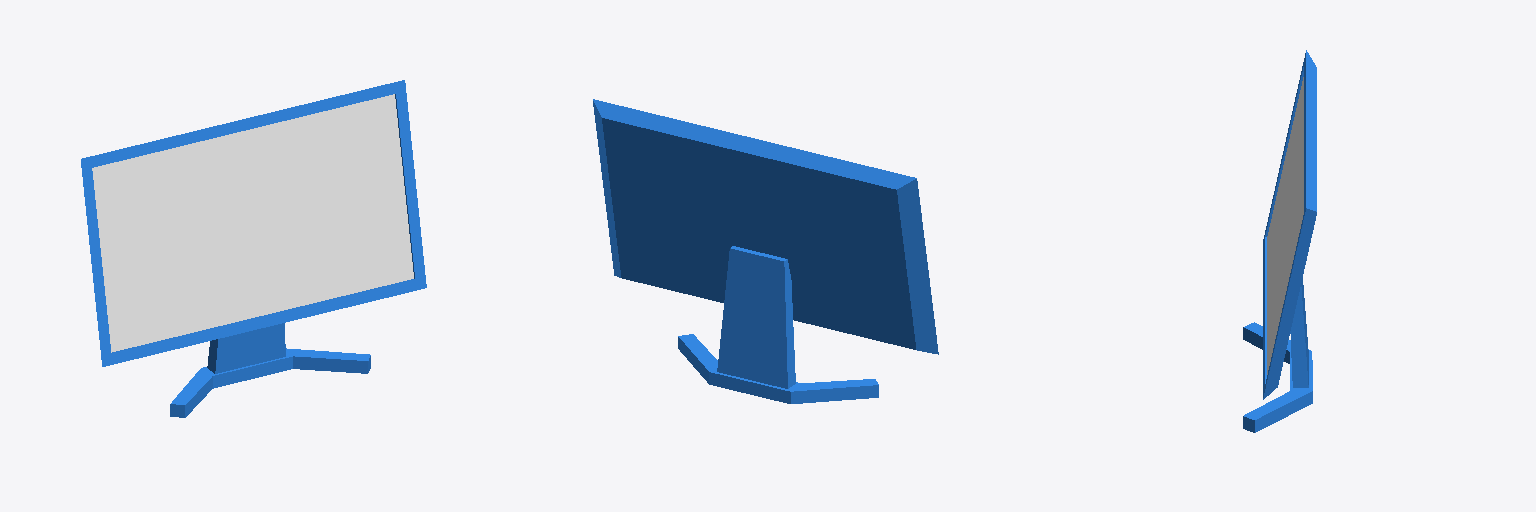
The model's file is Team_small_computer.obj.
The picture shows the model from 3 angles: view 1: azimuth 30°, elevation 25°; view 2: azimuth 150°, elevation 25°; view 3: azimuth 270°, elevation 25°; orthographic projection.
Visible parts, largest first — view 1: Team_small_computer; view 2: Team_small_computer; view 3: Team_small_computer.
Part boxes in pixels (left/top/right/bottom): Team_small_computer: left=81, top=80, right=426, bottom=417; Team_small_computer: left=593, top=99, right=938, bottom=403; Team_small_computer: left=1243, top=50, right=1316, bottom=432.
Bounding box in the file's own units: 21.79 × 16.31 × 4.35.